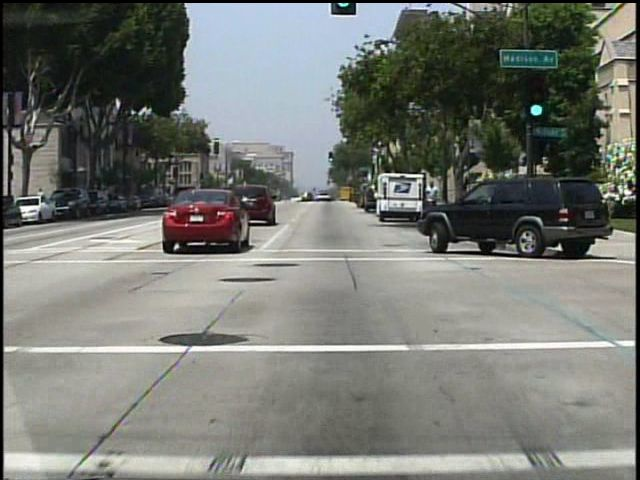person: (424, 181, 440, 221), (353, 185, 367, 212), (38, 186, 49, 211)
